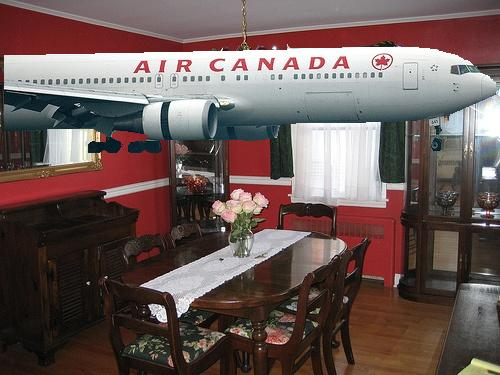tampered: (5, 45, 496, 153)
